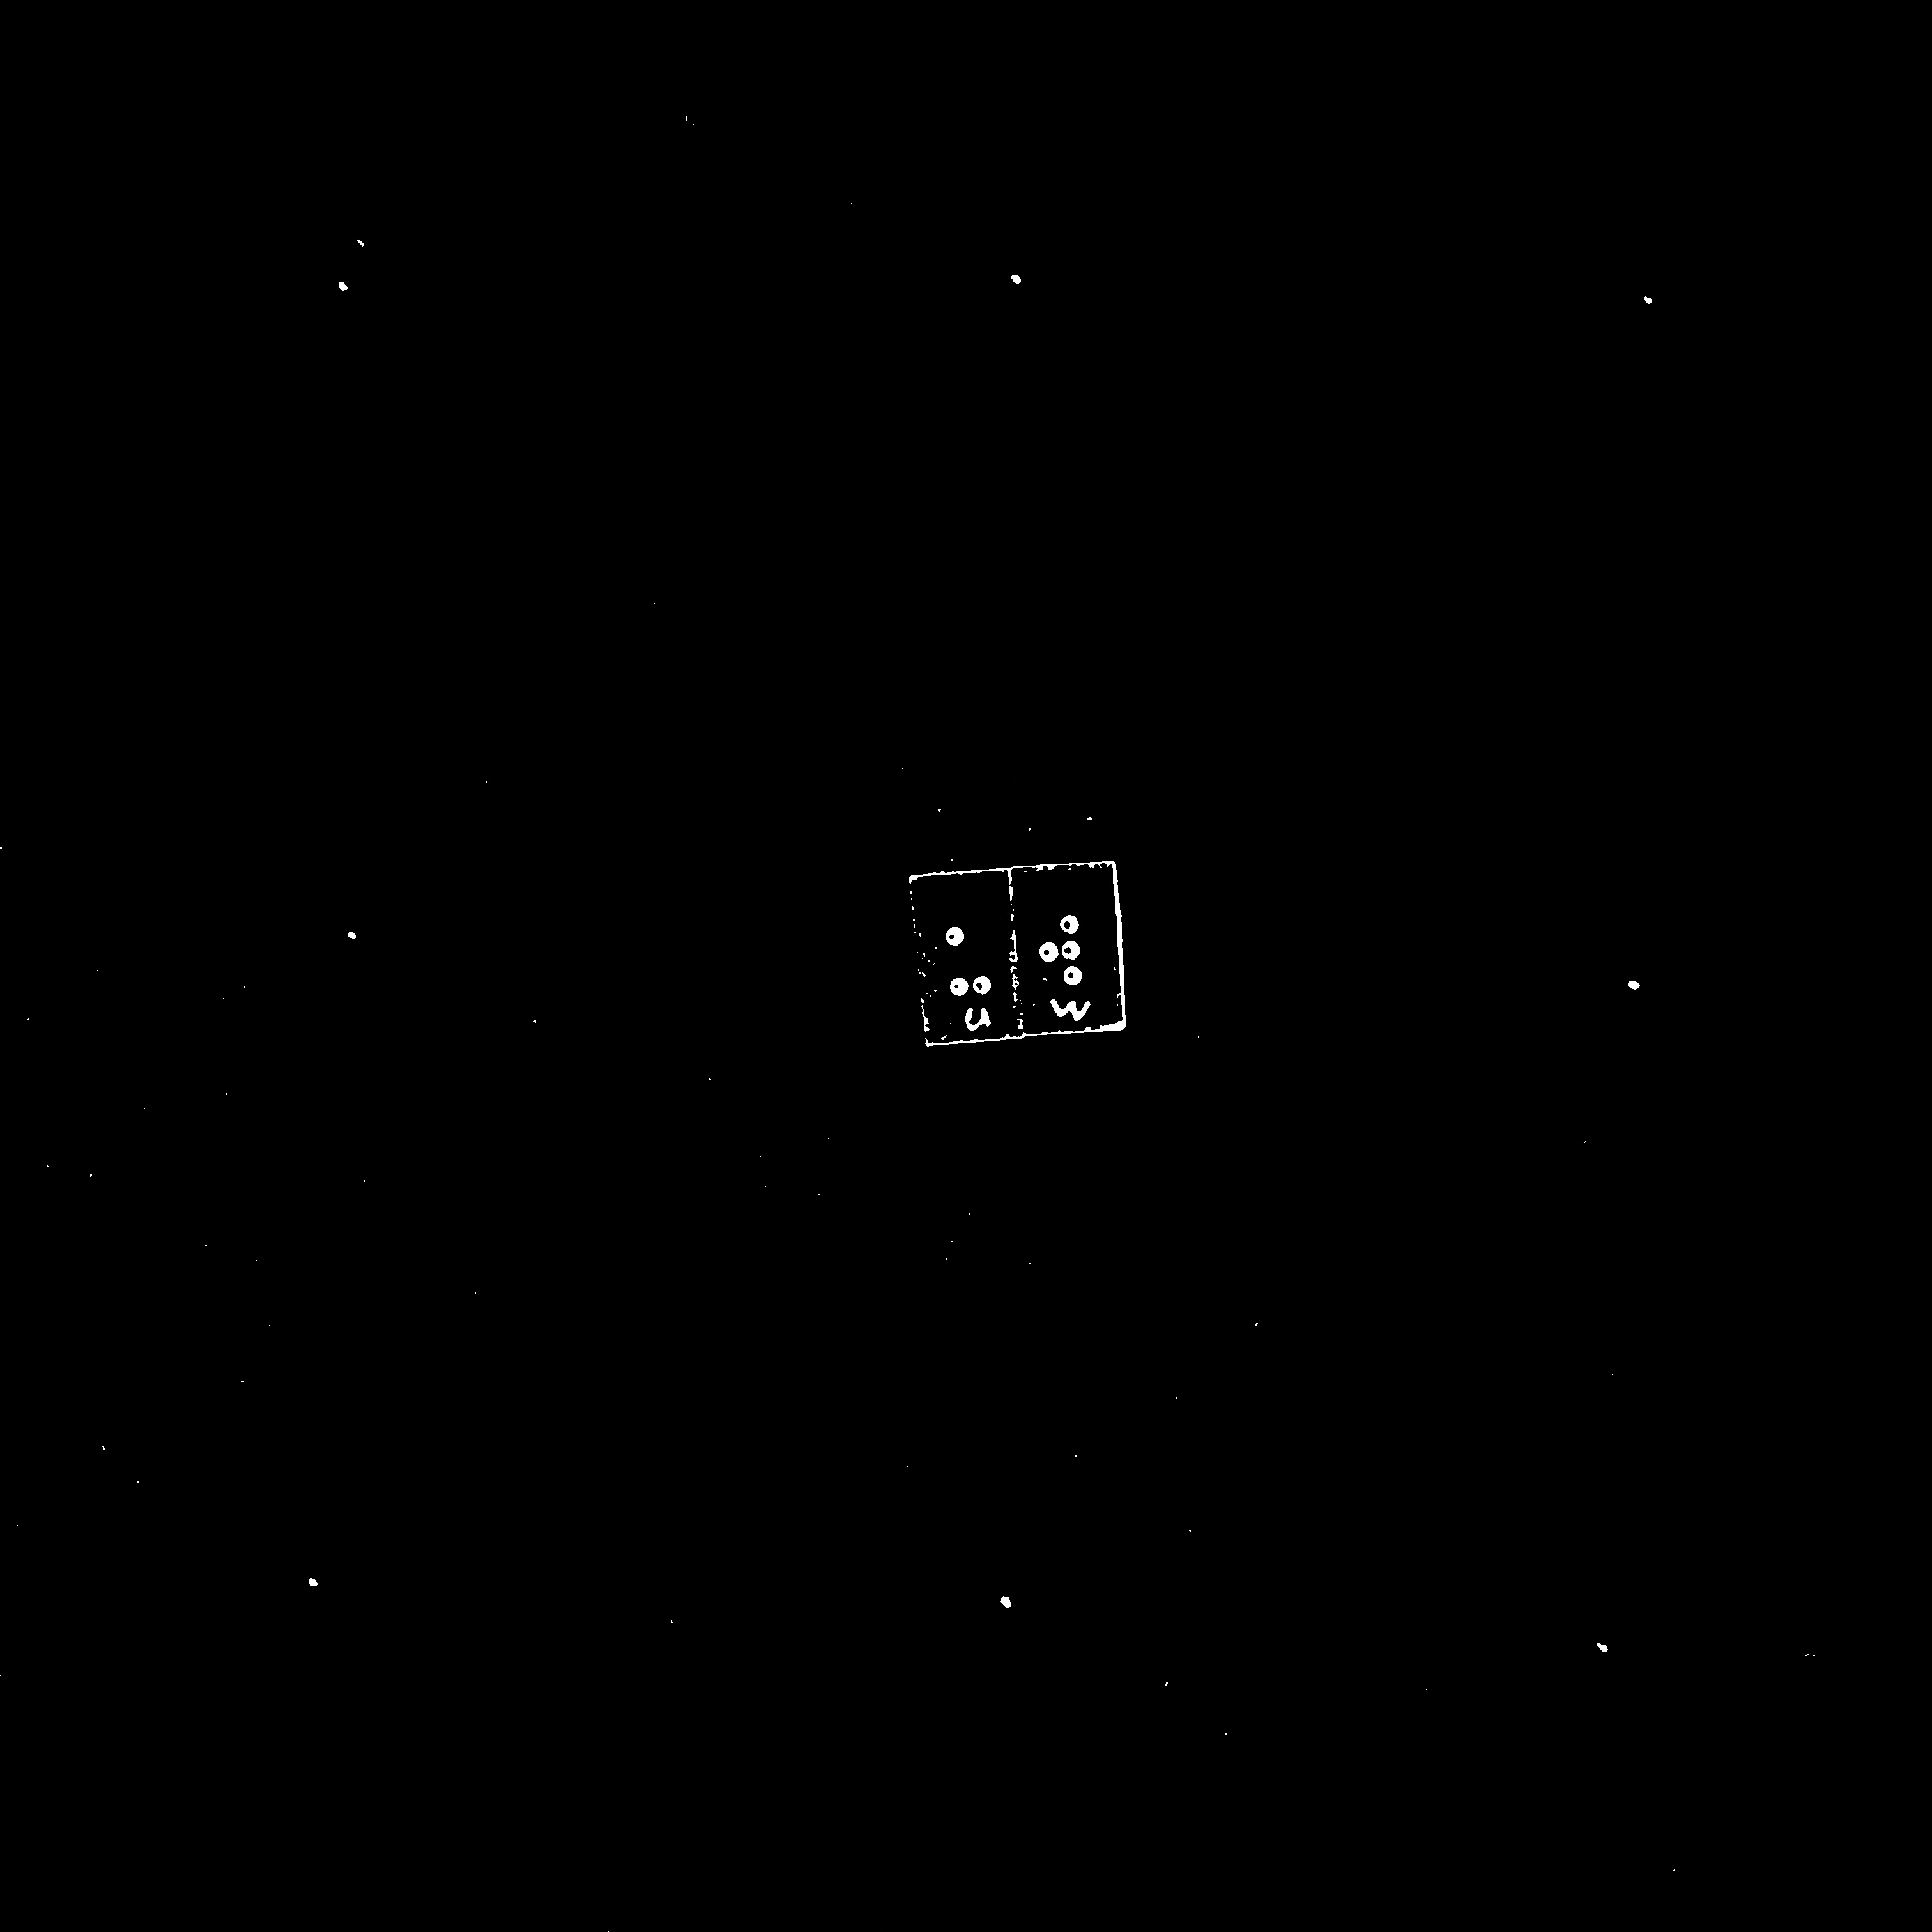u: (937, 912, 996, 1000)
w: (1038, 903, 1091, 993)
